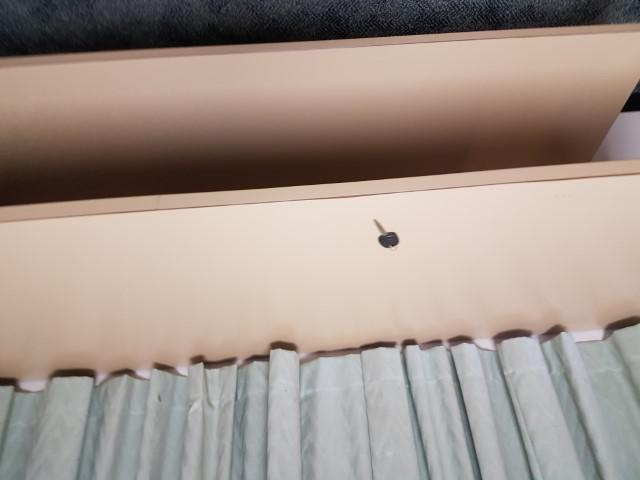key: (372, 219, 399, 248)
